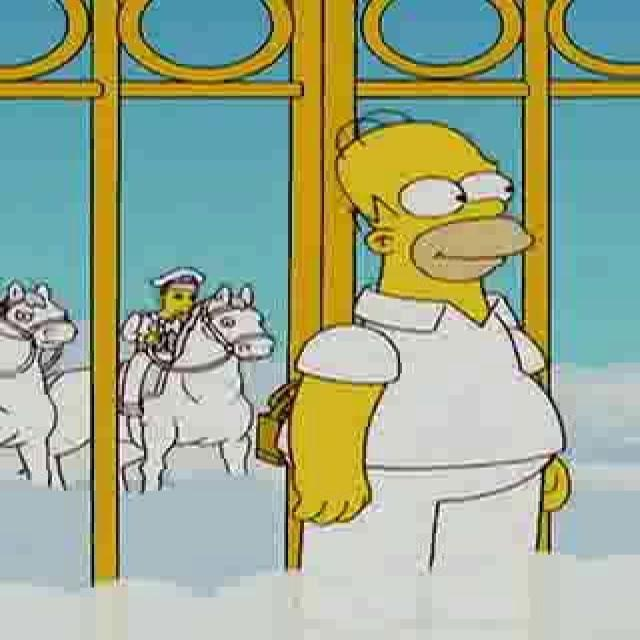Homer Simpson: (327, 108, 545, 304)
